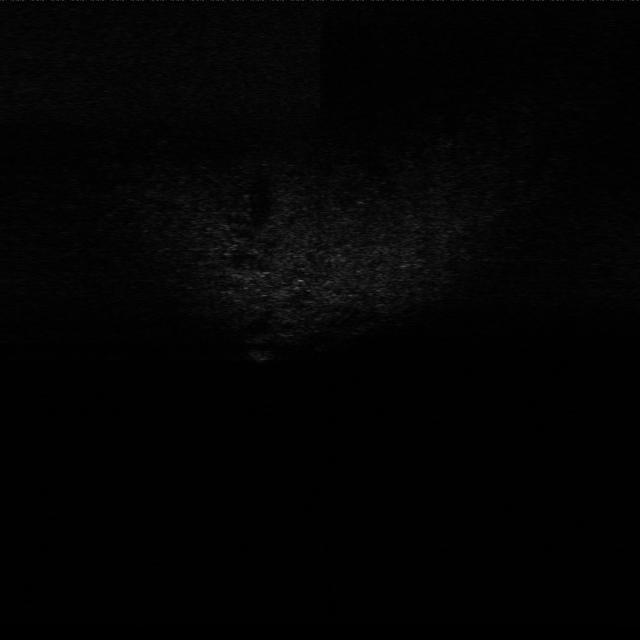cube: (248, 345, 278, 365)
